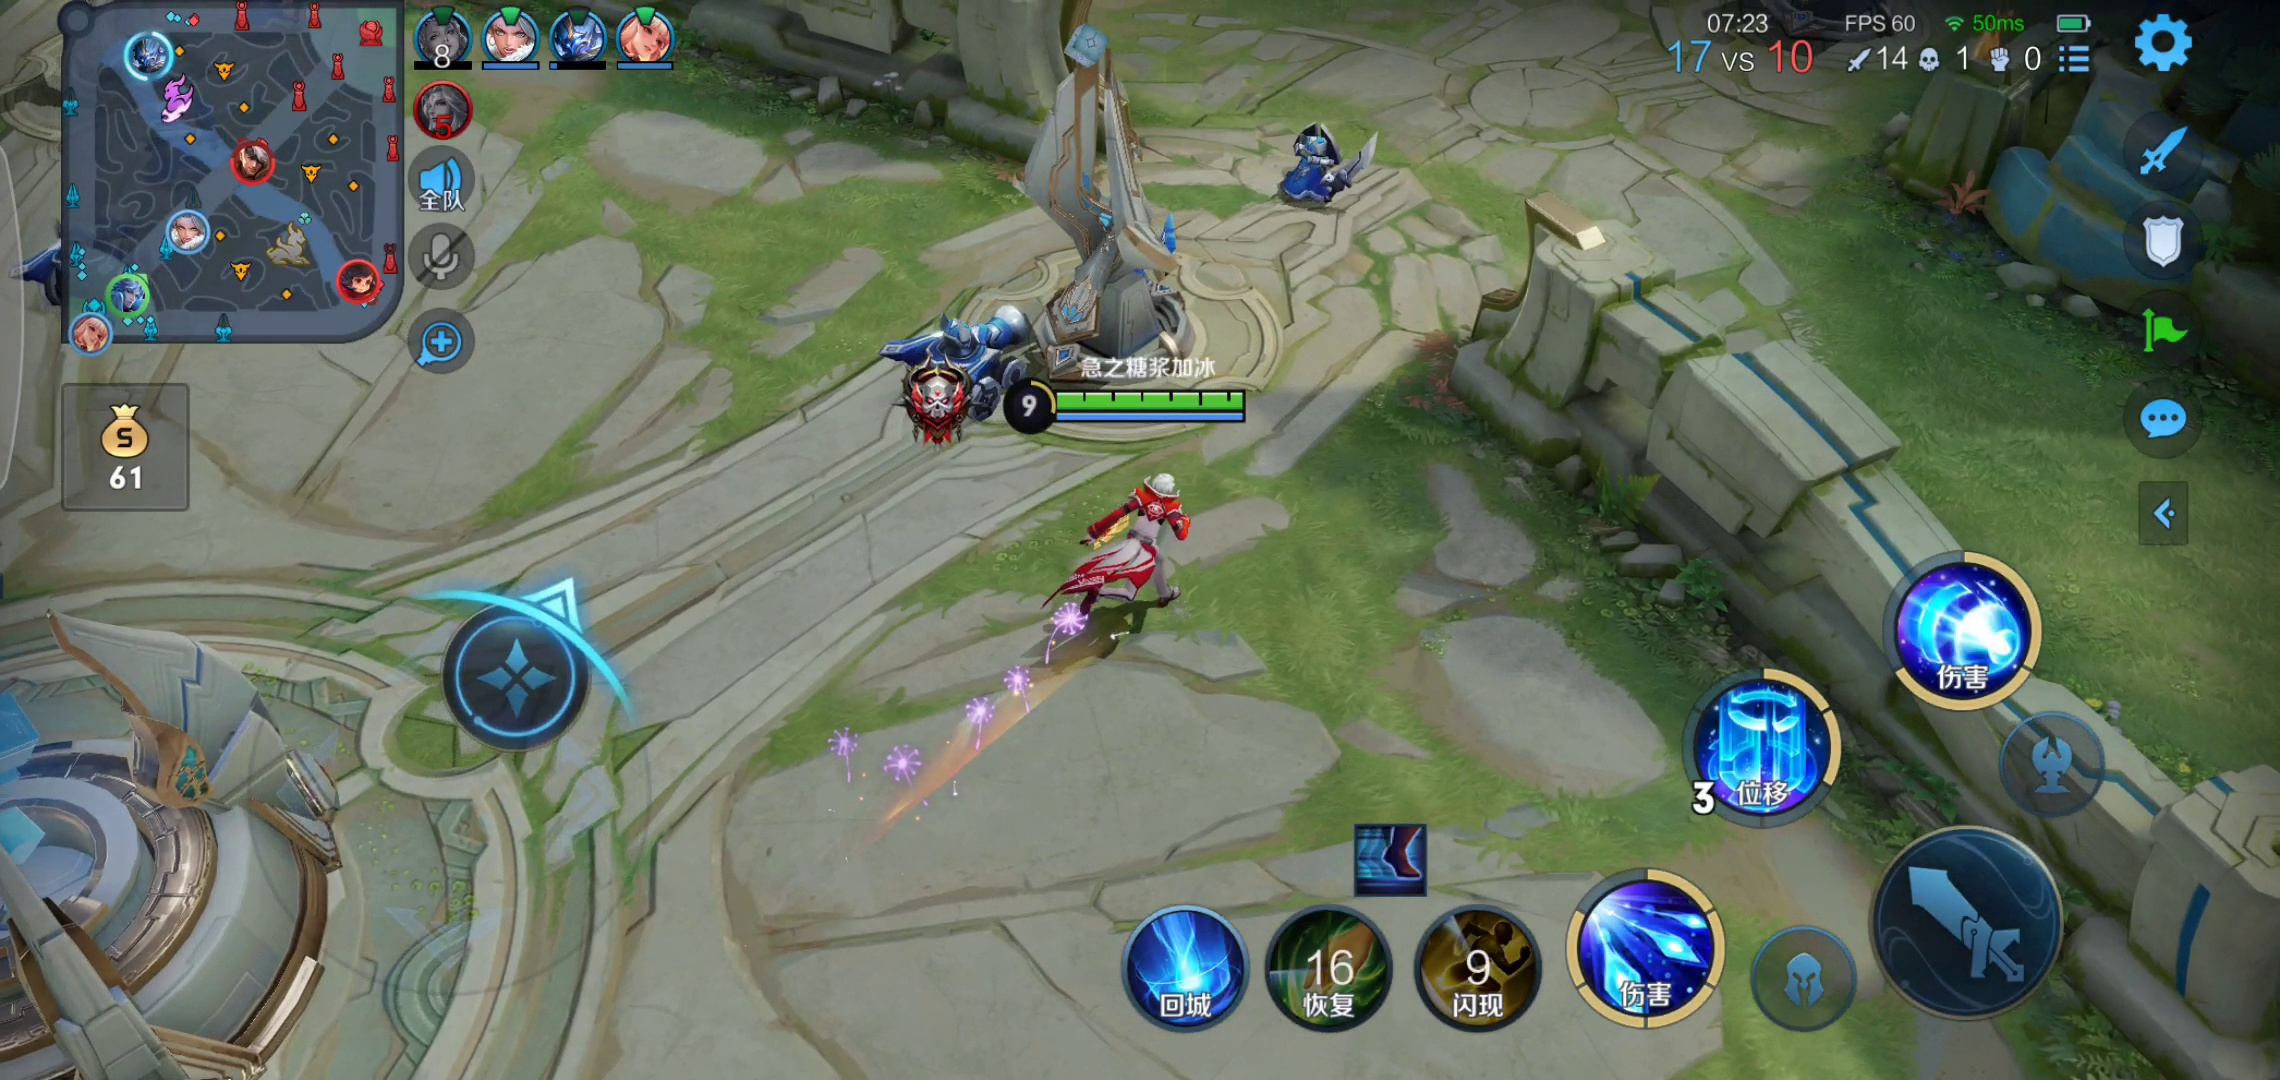hero: (1044, 451, 1203, 626)
soldier: (902, 292, 1019, 403), (1272, 105, 1381, 211)
tower: (4, 590, 346, 1080), (1013, 26, 1229, 388)
